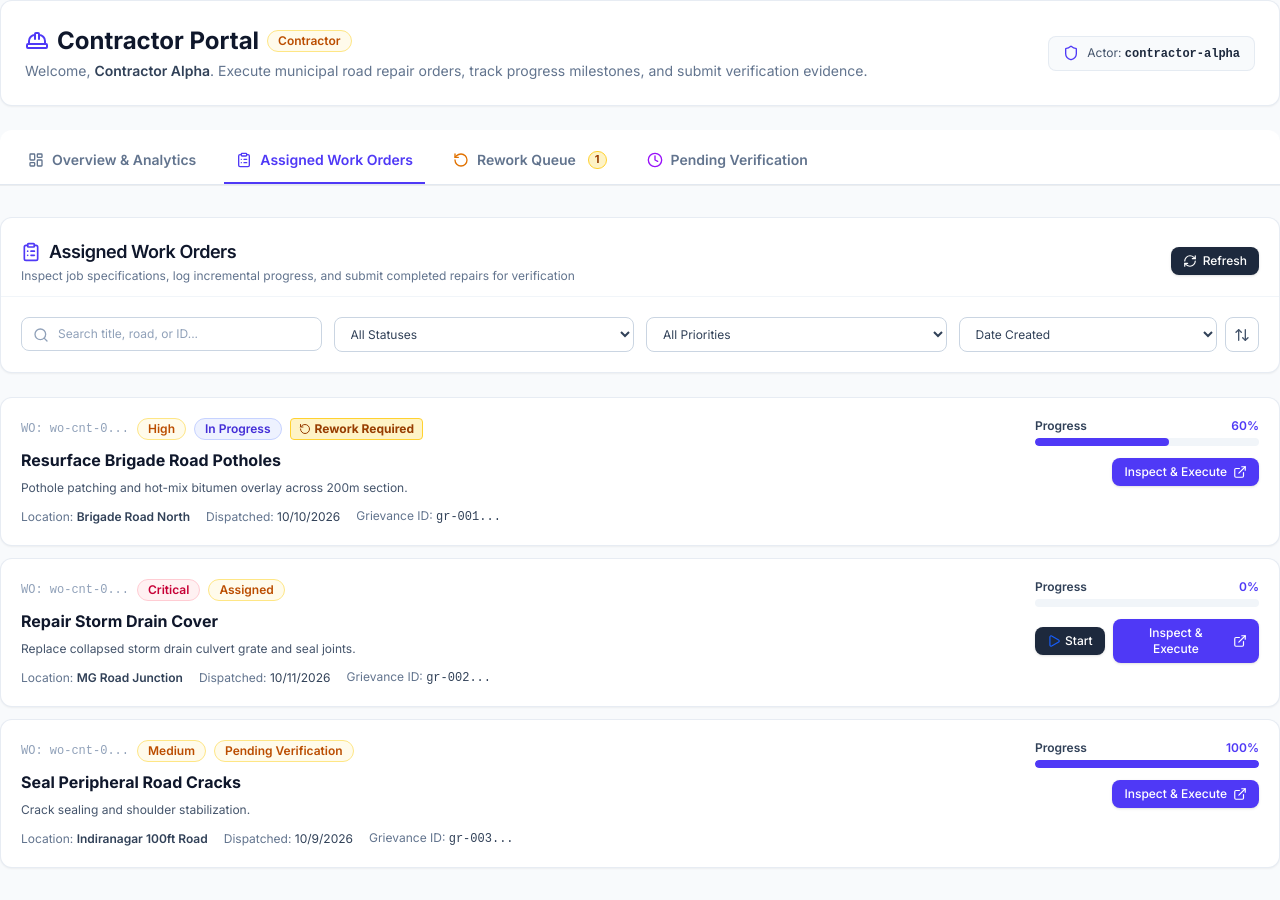
Contractor Dashboard Integration Tests (Phase 26) › 6. searches work orders client-side on title and description
Expected: the heading "Repair Storm Drain Cover" is shown, x1=21 y1=611 x2=218 y2=631
# Search for "Brigade"
Type "Brigade" into the field with test id "input-search-work-orders" at (171, 334), box x1=21 y1=317 x2=322 y2=351
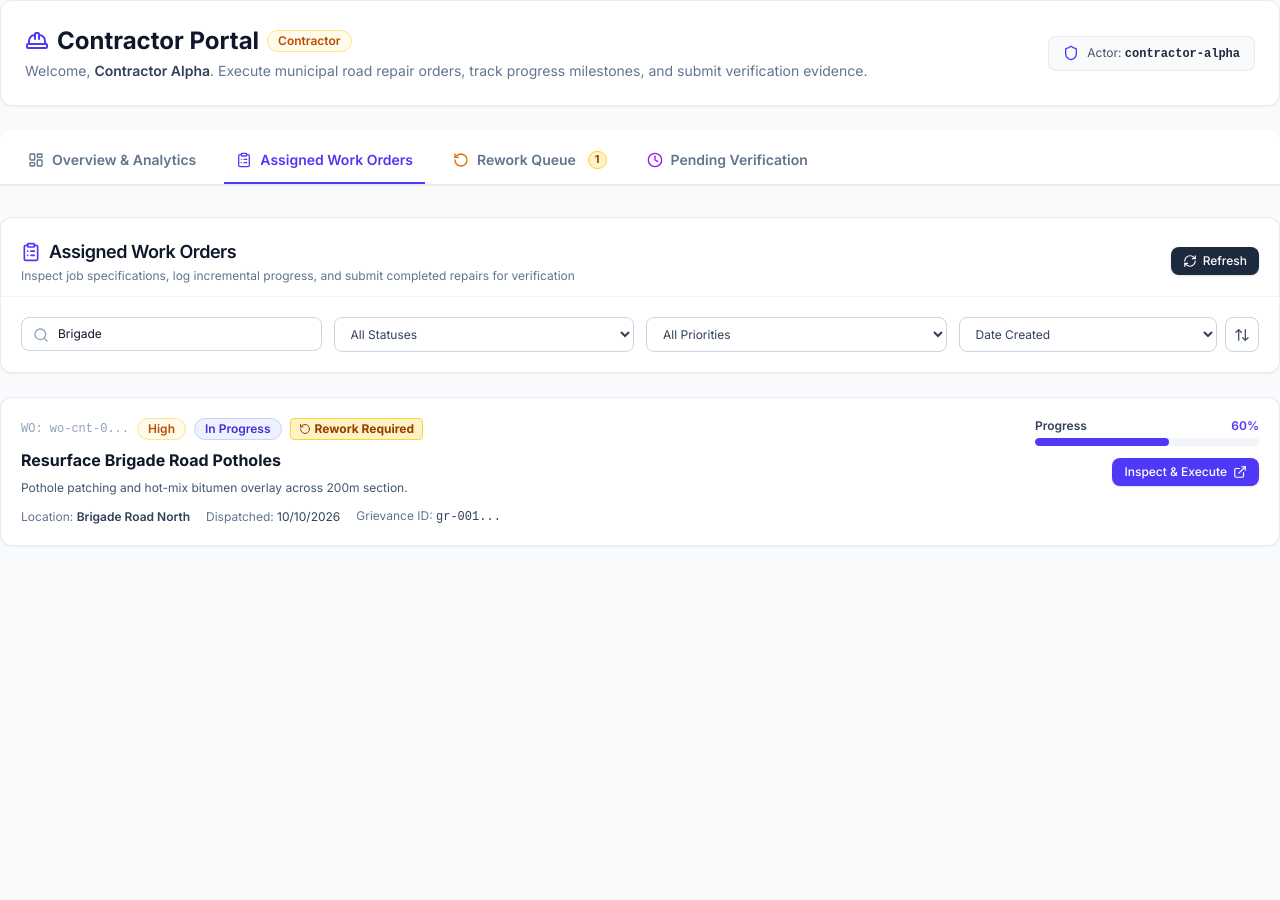
Expected: the heading "Resurface Brigade Road Potholes" is shown, x1=21 y1=450 x2=281 y2=470
Result: the heading "Repair Storm Drain Cover" is gone
